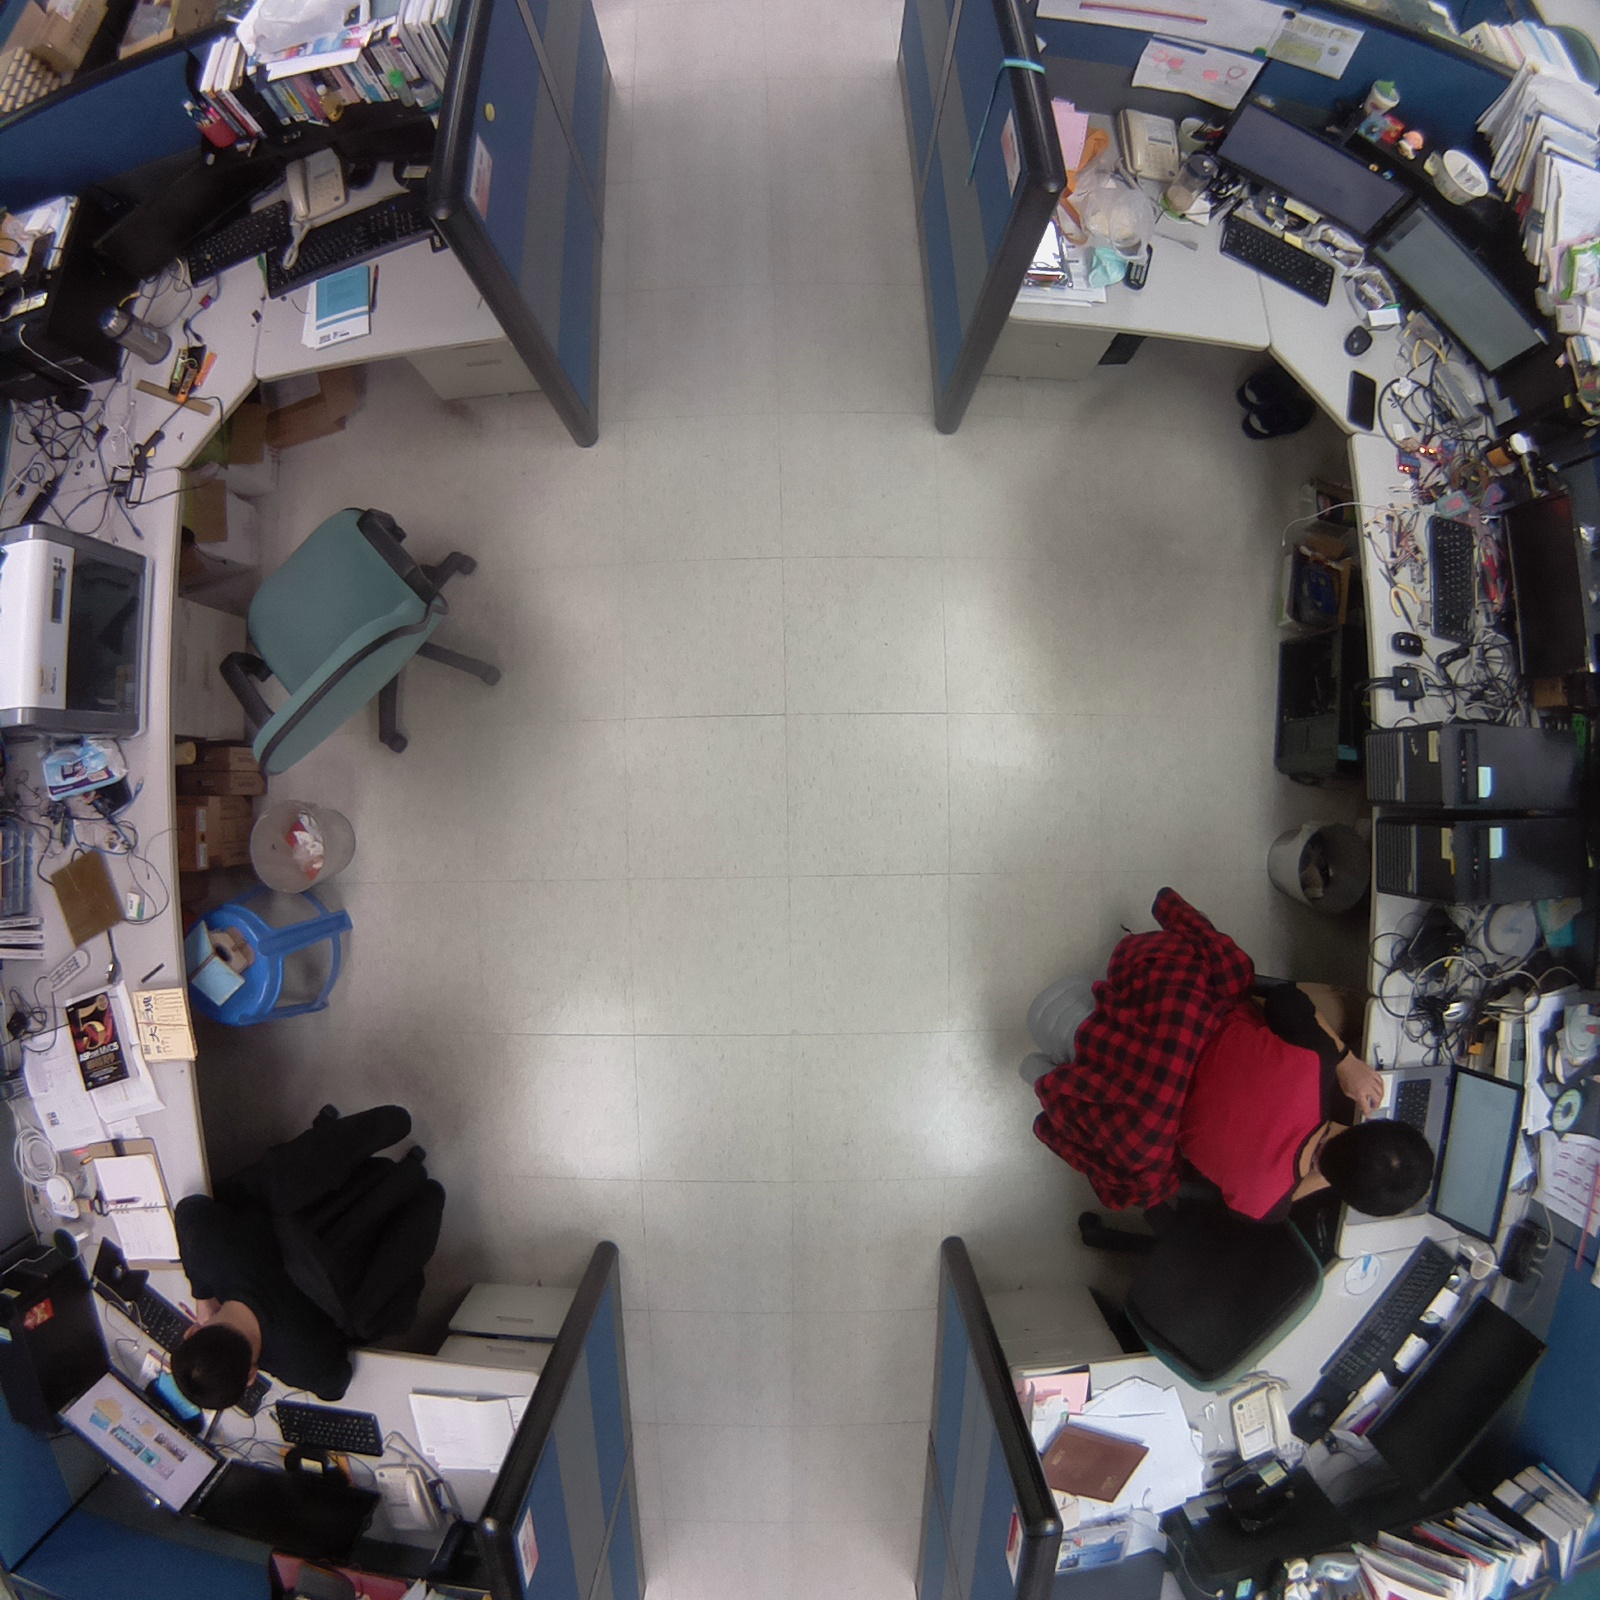chair: (199, 473, 527, 799), (1065, 1204, 1347, 1409)
head: (1308, 1114, 1440, 1227), (168, 1319, 263, 1421)
sitting: (1006, 865, 1439, 1244), (150, 1078, 468, 1415)
